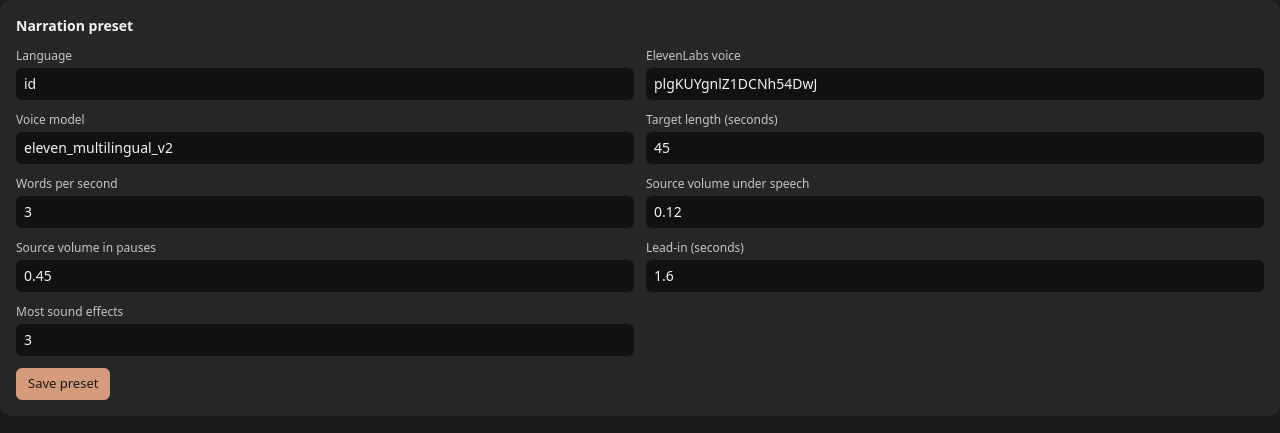
Test case: a preset saved elsewhere first is reported as a conflict
Click the button "Save preset".
click(63, 384)  # box [16,368,110,400]
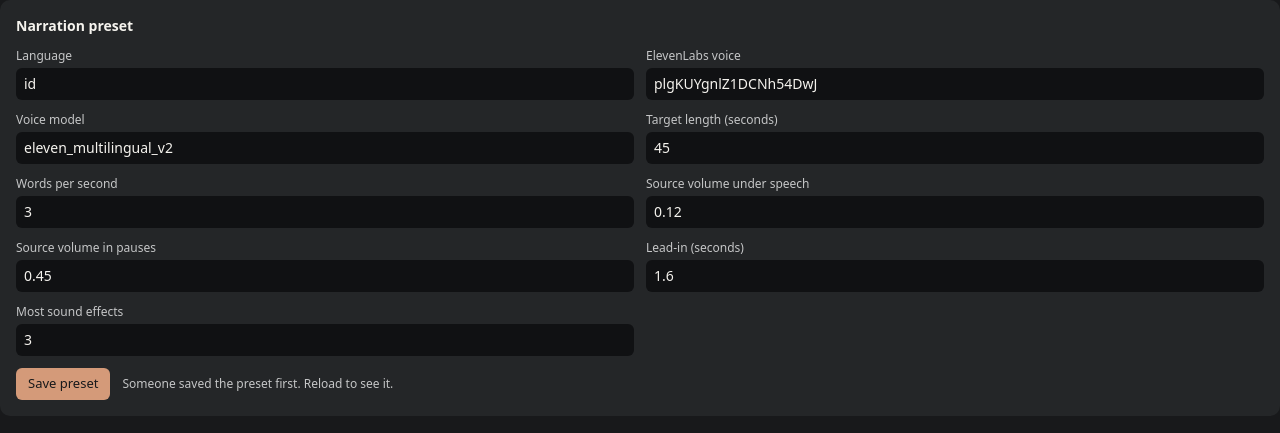
Expected: the message reads "Someone saved the preset first. Reload to see it.", [122,375,393,392]
